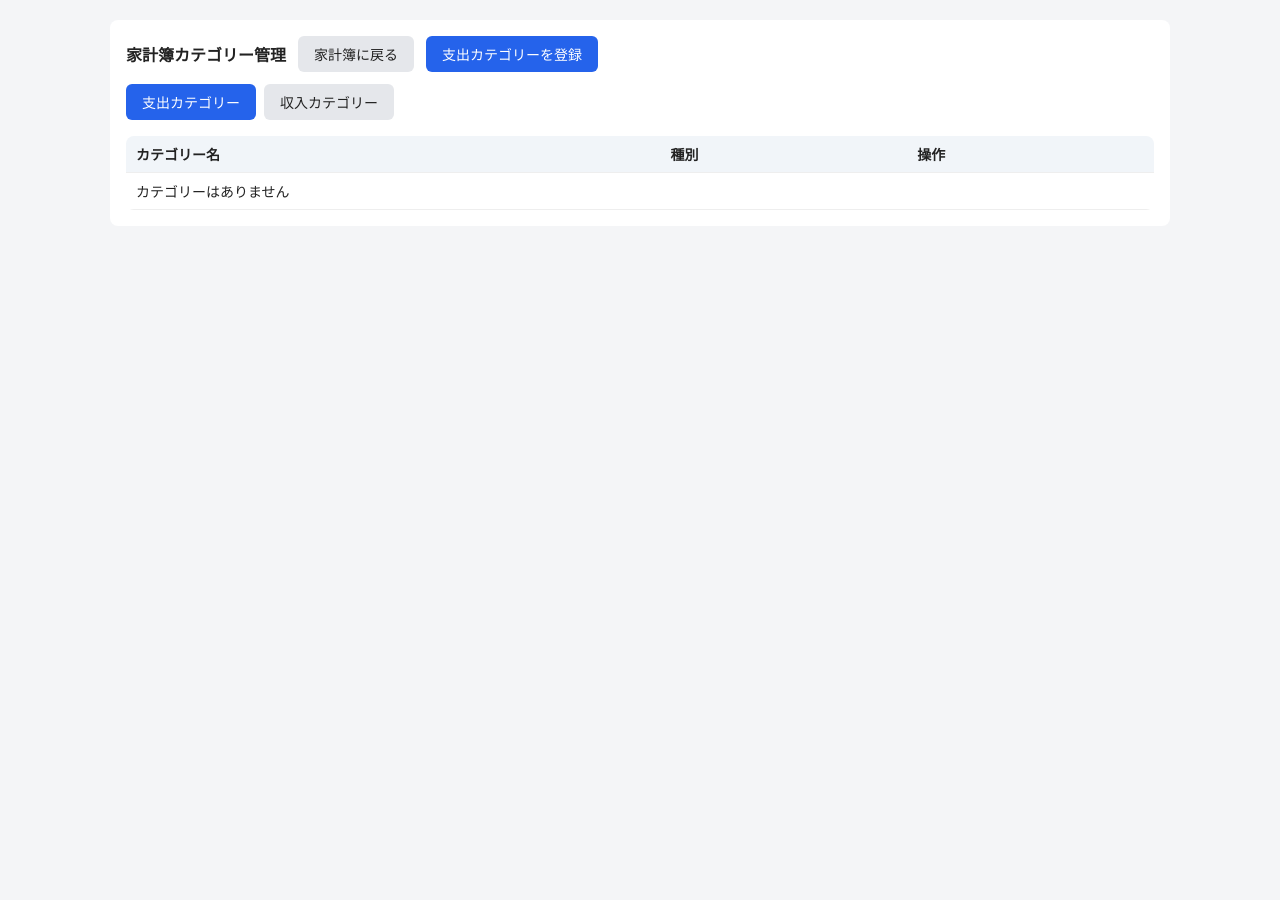
Test: KakeiboCategoriesPage › カテゴリー名が空はクライアント側でエラー表示しAPIを呼ばない
The image size is (1280, 900).
expect the text "カテゴリーはありません" is shown: met, box [126, 172, 1154, 210]
Click the button "支出カテゴリーを登録" at point(512, 54), box [426, 36, 598, 72]
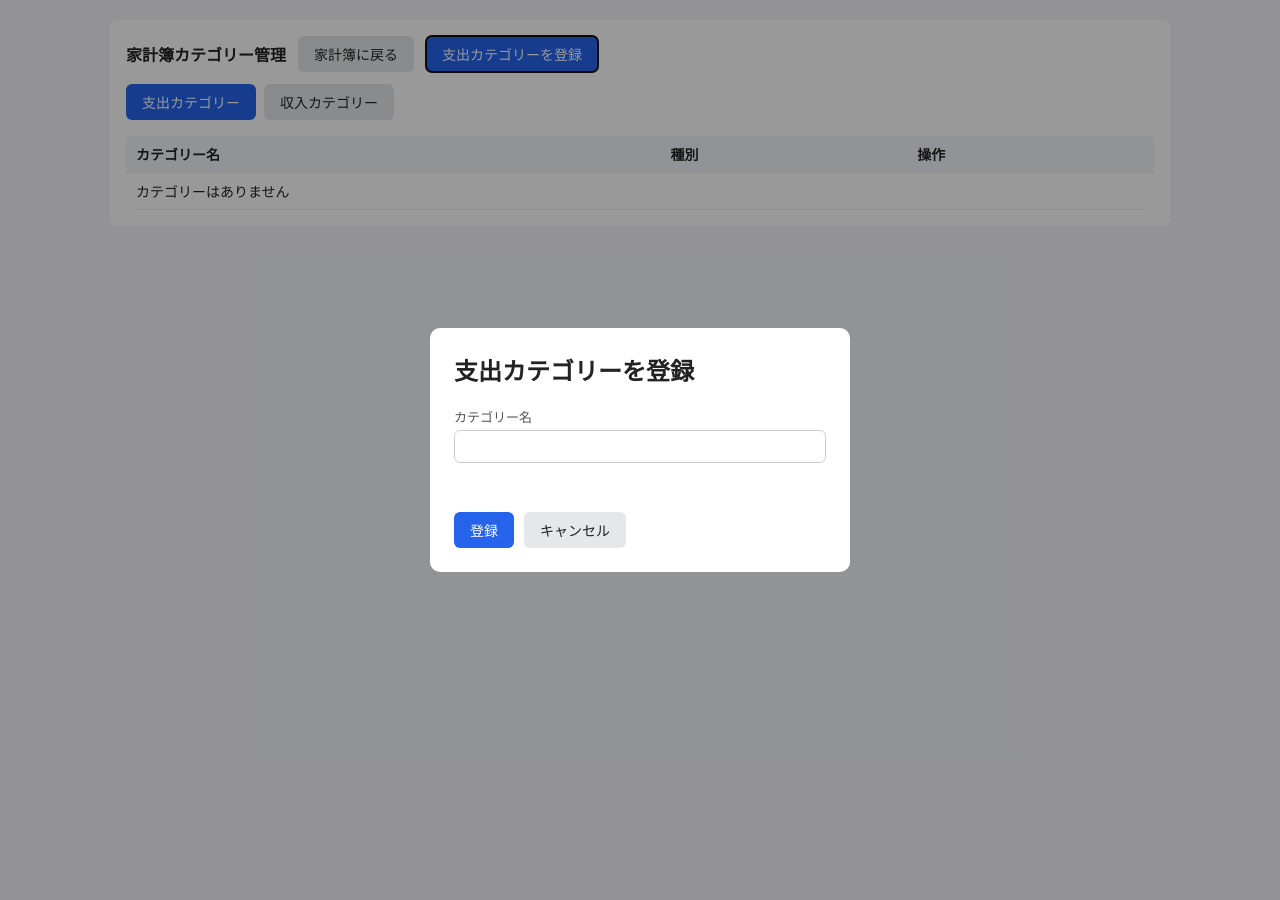
Click the button "登録" at point(484, 530), box [454, 512, 514, 548]
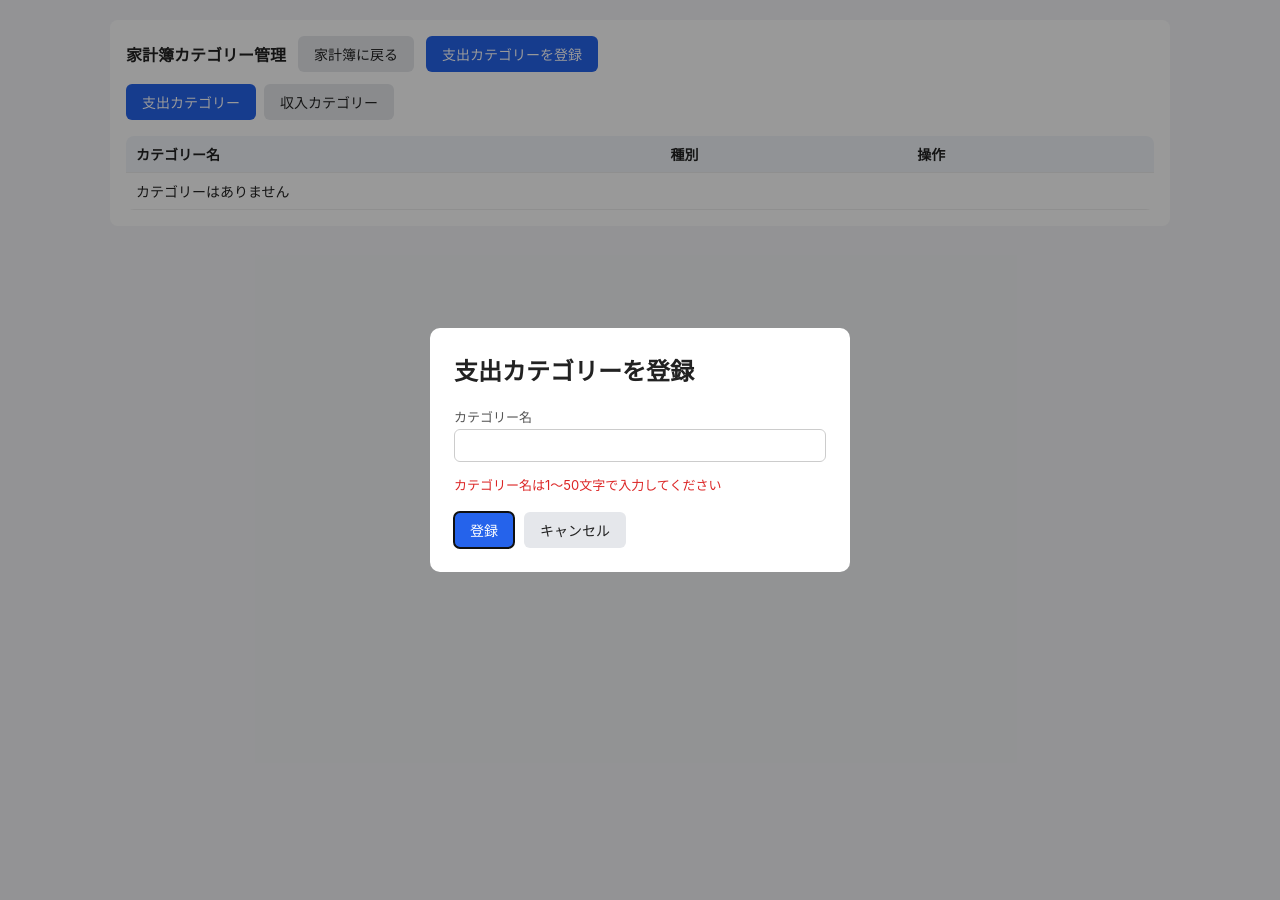
expect the text "カテゴリー名は1〜50文字で入力してください" is shown: met, box [454, 477, 721, 493]
